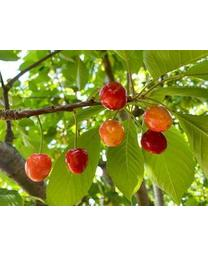cherry: (99, 81, 128, 109), (25, 152, 52, 182), (144, 105, 173, 132), (98, 120, 125, 147), (141, 129, 167, 154), (66, 148, 88, 175)
